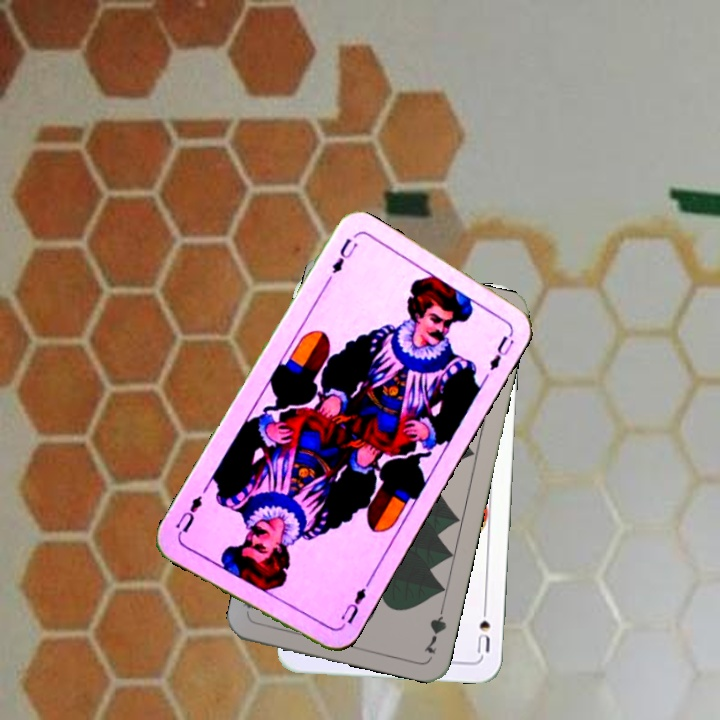EU: (335, 577, 373, 631), (328, 234, 361, 277)
G7: (419, 598, 449, 656)
SU: (473, 598, 493, 657)
